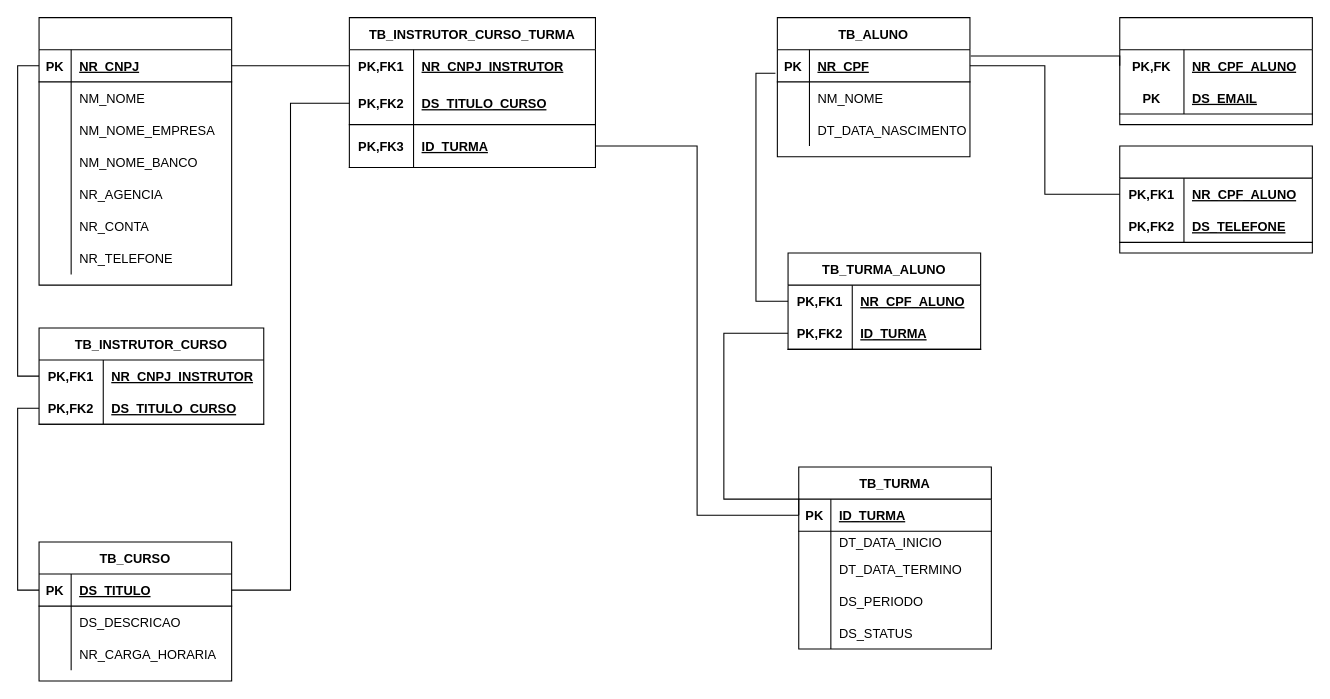
Image size: 1330x699. Some labels were removed from this diagram. Each missing label, with the box of its shape:
TB_EMAIL: (1119, 17, 1312, 125)
TB_INSTRUTOR: (38, 17, 232, 285)
TB_TELEFONE: (1119, 145, 1312, 253)
